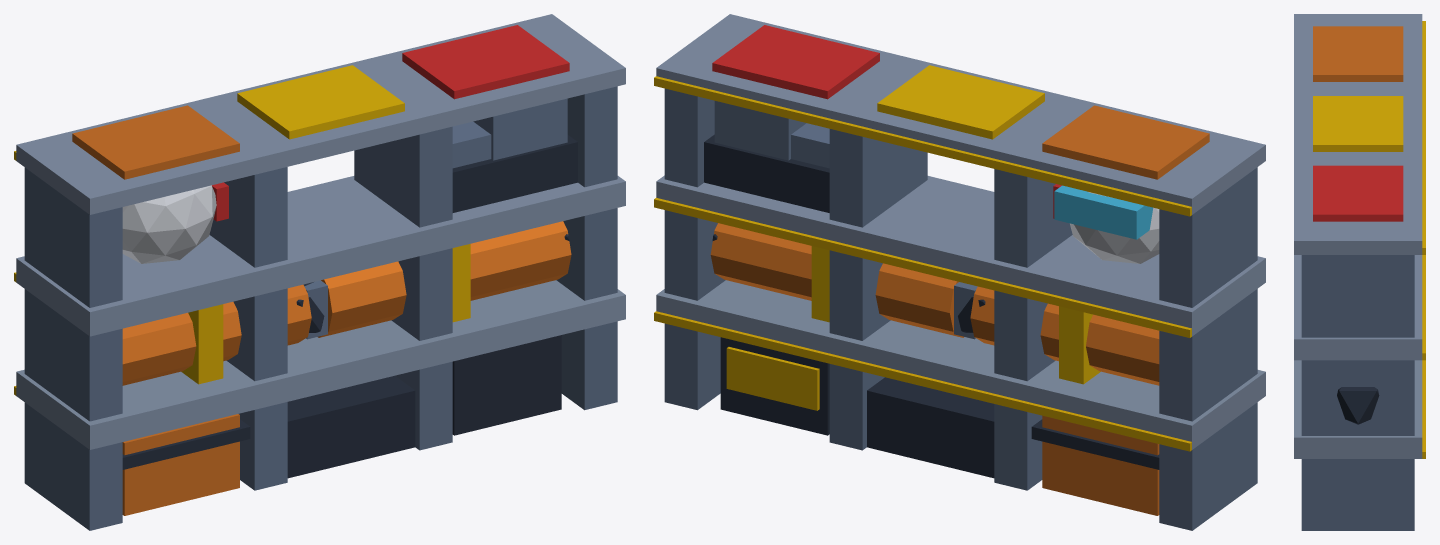
File: Decor_MechaHangar_PartsRack.fbx
3 views of the same model, side by side, from view 1: azimuth 30°, elevation 25°; view 2: azimuth 150°, elevation 25°; view 3: azimuth 270°, elevation 25° (orthographic). The views are drawn at different scales.
Visible parts, largest first — view 1: PartsRack_Body; view 2: PartsRack_Body; view 3: PartsRack_Body.
Boxes of the visible parts, <box> form: PartsRack_Body: <box>14,14,625,530</box>; PartsRack_Body: <box>654,14,1265,530</box>; PartsRack_Body: <box>1294,14,1425,530</box>.
Bounding box in the file's own units: 14 × 8.5 × 3.4.
